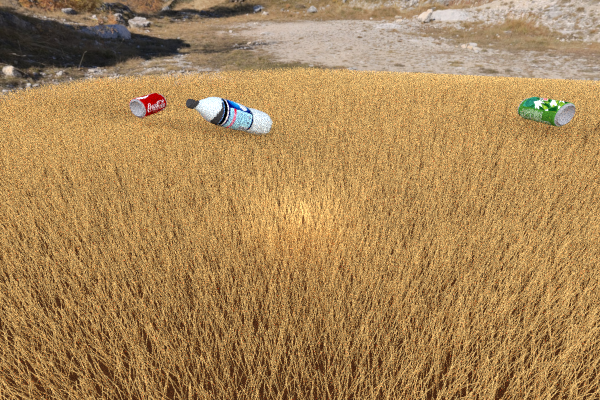bottle: (185, 96, 272, 135)
can: (517, 96, 575, 126), (129, 92, 166, 118)
